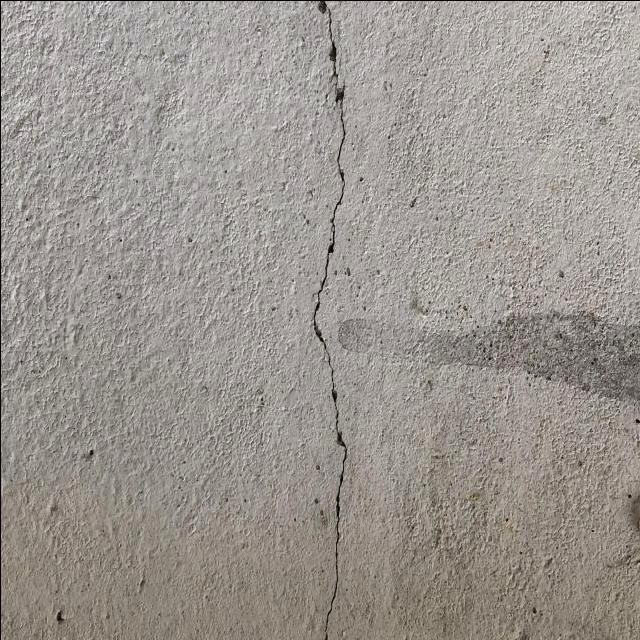SurfaceCrack: (265, 1, 399, 640)
